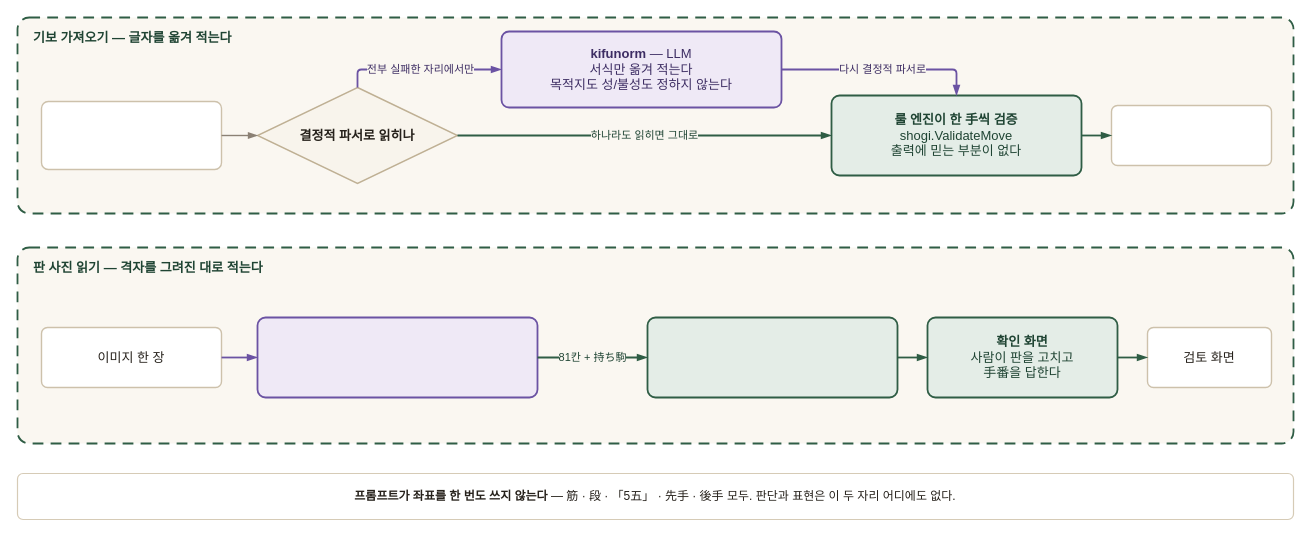
This 1312x538 diagram has some shape labels left out. Here are the shapes that lost their labels. From the top down, the centre of each, then its label:
the point at 131,135: 붙여 넣은 기보 텍스트 KIF · KI2 · CSA · USI
the point at 1191,135: 되짚기 · 퀴즈 · 段級
the point at 397,357: boardread — LLM 「위 줄부터, 왼쪽부터, 그려진 대로」 그 순서가 SFEN 칸 순서와 같다
the point at 772,357: 룰 엔진이 국면을 검사 shogi.Faults — 二歩 · 玉의 수 行き所のない駒 · 王手放置
